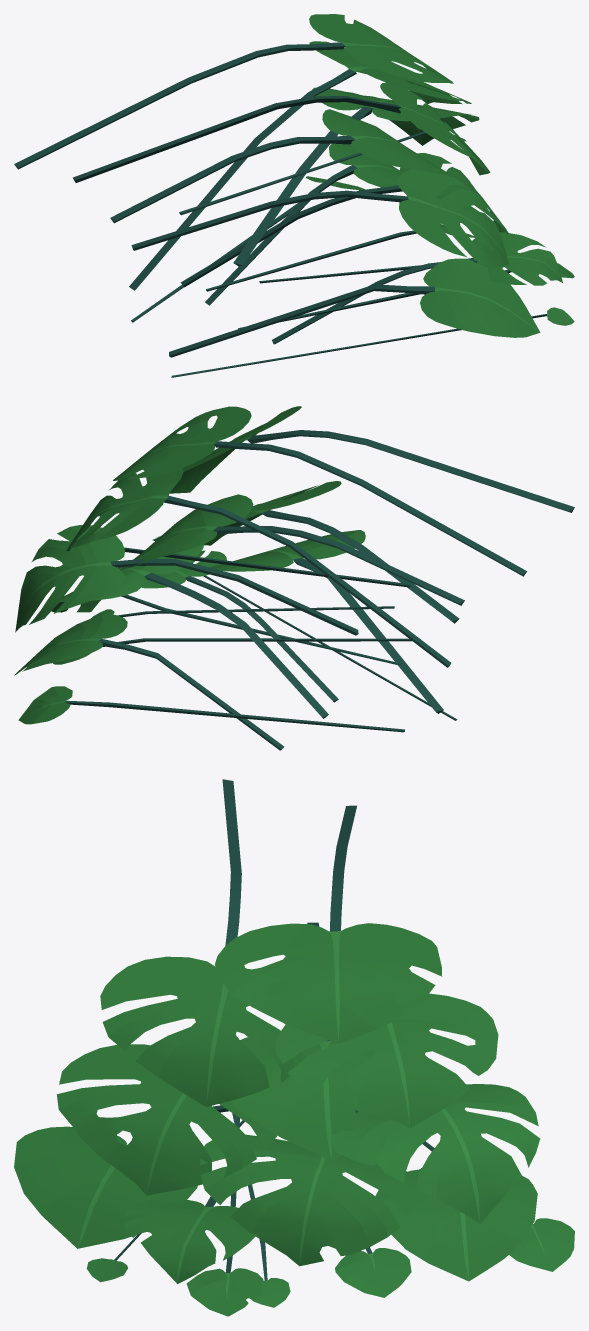
The model's file is plant_monstera_A_wall.fbx.
3 views of the same model, one above another, from view 1: azimuth 30°, elevation 25°; view 2: azimuth 150°, elevation 25°; view 3: azimuth 270°, elevation 25° (orthographic). The views are drawn at different scales.
Visible parts, largest first — view 1: plant_monstera_leaf_A_07, plant_monstera_leaf_A_05, plant_monstera_leaf_A_08, plant_monstera_leaf_A_04, plant_monstera_leaf_A_03, plant_monstera_leaf_A_02, plant_monstera_leaf_A_10, plant_monstera_leaf_A_06, plant_monstera_leaf_A_11, plant_monstera_leaf_A_09, plant_monstera_leaf_A_16, plant_monstera_leaf_A_13 (+4 smaller); view 2: plant_monstera_leaf_A_06, plant_monstera_leaf_A_08, plant_monstera_leaf_A_02, plant_monstera_leaf_A_04, plant_monstera_leaf_A_03, plant_monstera_leaf_A_11, plant_monstera_leaf_A_07, plant_monstera_leaf_A_09, plant_monstera_leaf_A_12, plant_monstera_leaf_A_05, plant_monstera_leaf_A_10, plant_monstera_leaf_A_13 (+4 smaller); view 3: plant_monstera_leaf_A_08, plant_monstera_leaf_A_03, plant_monstera_leaf_A_05, plant_monstera_leaf_A_02, plant_monstera_leaf_A_09, plant_monstera_leaf_A_06, plant_monstera_leaf_A_07, plant_monstera_leaf_A_11, plant_monstera_leaf_A_04, plant_monstera_leaf_A_10, plant_monstera_leaf_A_14, plant_monstera_leaf_A_13 (+4 smaller).
Part boxes in pixels (bbox=[...]): plant_monstera_leaf_A_07: bbox=[169, 258, 540, 357]; plant_monstera_leaf_A_05: bbox=[131, 169, 509, 267]; plant_monstera_leaf_A_08: bbox=[14, 14, 453, 169]; plant_monstera_leaf_A_04: bbox=[110, 109, 452, 223]; plant_monstera_leaf_A_03: bbox=[73, 82, 490, 182]; plant_monstera_leaf_A_02: bbox=[129, 41, 471, 290]; plant_monstera_leaf_A_10: bbox=[272, 232, 562, 344]; plant_monstera_leaf_A_06: bbox=[233, 87, 479, 266]; plant_monstera_leaf_A_11: bbox=[205, 143, 399, 305]; plant_monstera_leaf_A_09: bbox=[180, 153, 508, 287]; plant_monstera_leaf_A_16: bbox=[171, 307, 574, 377]; plant_monstera_leaf_A_13: bbox=[206, 223, 475, 291]; plant_monstera_leaf_A_06: bbox=[15, 525, 358, 635]; plant_monstera_leaf_A_08: bbox=[113, 406, 526, 576]; plant_monstera_leaf_A_02: bbox=[66, 468, 451, 667]; plant_monstera_leaf_A_04: bbox=[120, 494, 464, 605]; plant_monstera_leaf_A_03: bbox=[169, 406, 574, 512]; plant_monstera_leaf_A_11: bbox=[14, 614, 284, 750]; plant_monstera_leaf_A_07: bbox=[210, 530, 443, 713]; plant_monstera_leaf_A_09: bbox=[51, 544, 328, 718]; plant_monstera_leaf_A_12: bbox=[18, 686, 404, 732]; plant_monstera_leaf_A_05: bbox=[152, 481, 459, 623]; plant_monstera_leaf_A_10: bbox=[142, 550, 338, 702]; plant_monstera_leaf_A_13: bbox=[53, 638, 411, 664]; plant_monstera_leaf_A_08: bbox=[215, 805, 442, 1043]; plant_monstera_leaf_A_03: bbox=[100, 779, 316, 1106]; plant_monstera_leaf_A_05: bbox=[56, 1044, 277, 1195]; plant_monstera_leaf_A_02: bbox=[275, 993, 498, 1127]; plant_monstera_leaf_A_09: bbox=[200, 1134, 418, 1266]; plant_monstera_leaf_A_06: bbox=[353, 1084, 540, 1223]; plant_monstera_leaf_A_07: bbox=[14, 1105, 229, 1248]; plant_monstera_leaf_A_11: bbox=[375, 1168, 537, 1281]; plant_monstera_leaf_A_04: bbox=[231, 922, 375, 1160]; plant_monstera_leaf_A_10: bbox=[124, 1179, 275, 1283]; plant_monstera_leaf_A_14: bbox=[186, 1116, 263, 1316]; plant_monstera_leaf_A_13: bbox=[335, 1247, 411, 1297].
Bounding box in the file's own units: 409 × 212 × 338.
